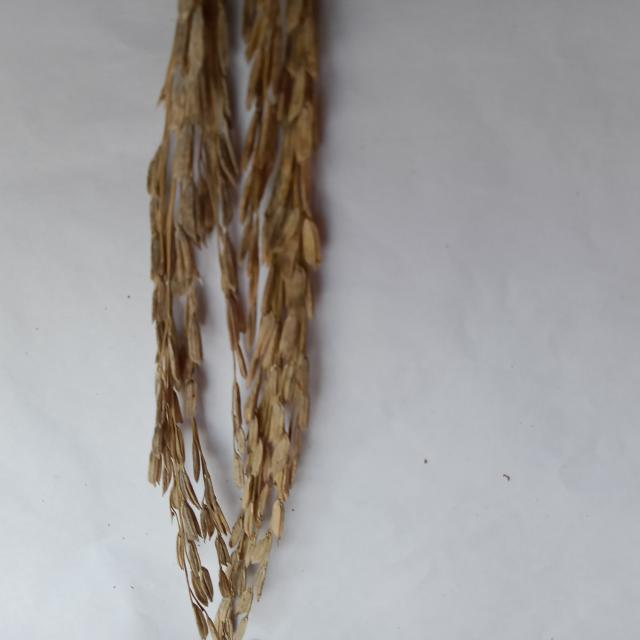Neck_Blast: (143, 1, 244, 640), (224, 0, 317, 640)
